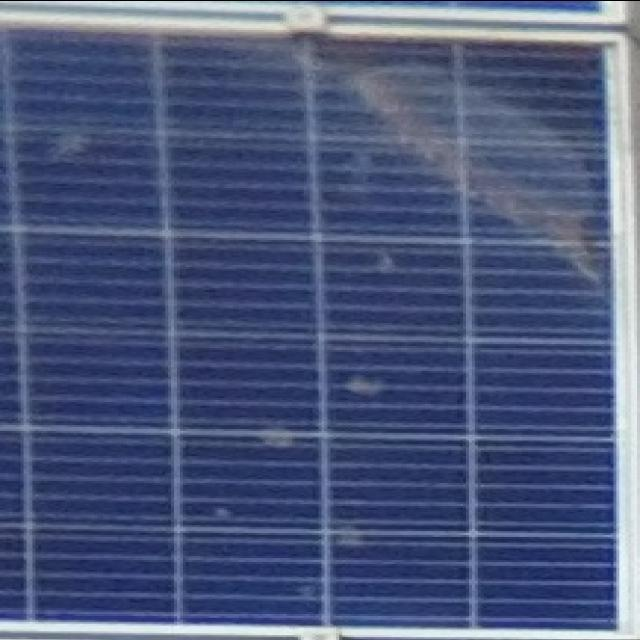Dust: (316, 31, 622, 270)
bird-droppings: (250, 406, 329, 455), (43, 125, 103, 163), (311, 517, 375, 552), (337, 368, 393, 404), (204, 494, 240, 524)
